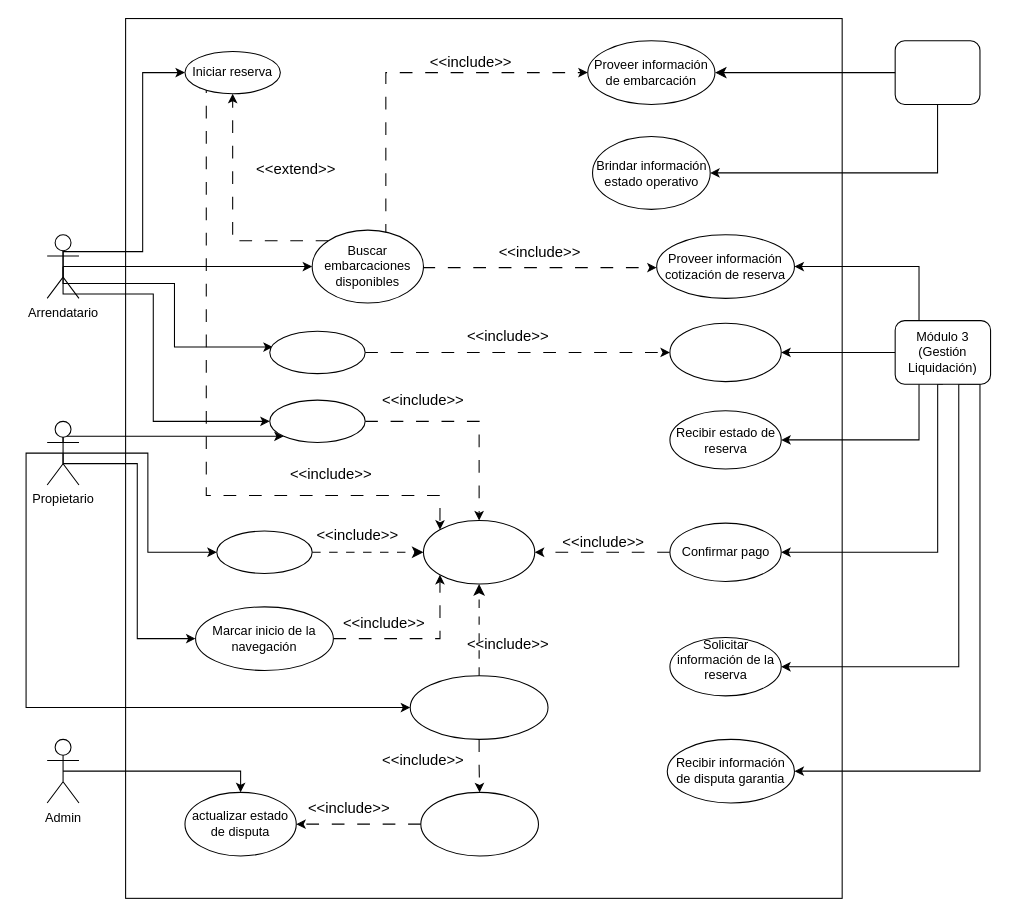
The diagram is 1009 pixels wide and 917 high, and some of its shapes have lost their labels. Here are the shapes that lost their labels. From the top down, the centre of each, then its label:
(x=937, y=72): Modulo 1 (Gestión de embarcación)
(x=317, y=352): Iniciar pago
(x=725, y=352): Brindar calculo total de la reserva
(x=317, y=421): Solicitar cancelación
(x=264, y=551): Marcar inasistencia
(x=478, y=551): Actualizar estado reserva
(x=478, y=707): Marcar fin de navegacion
(x=479, y=823): generar disputa de garantia
